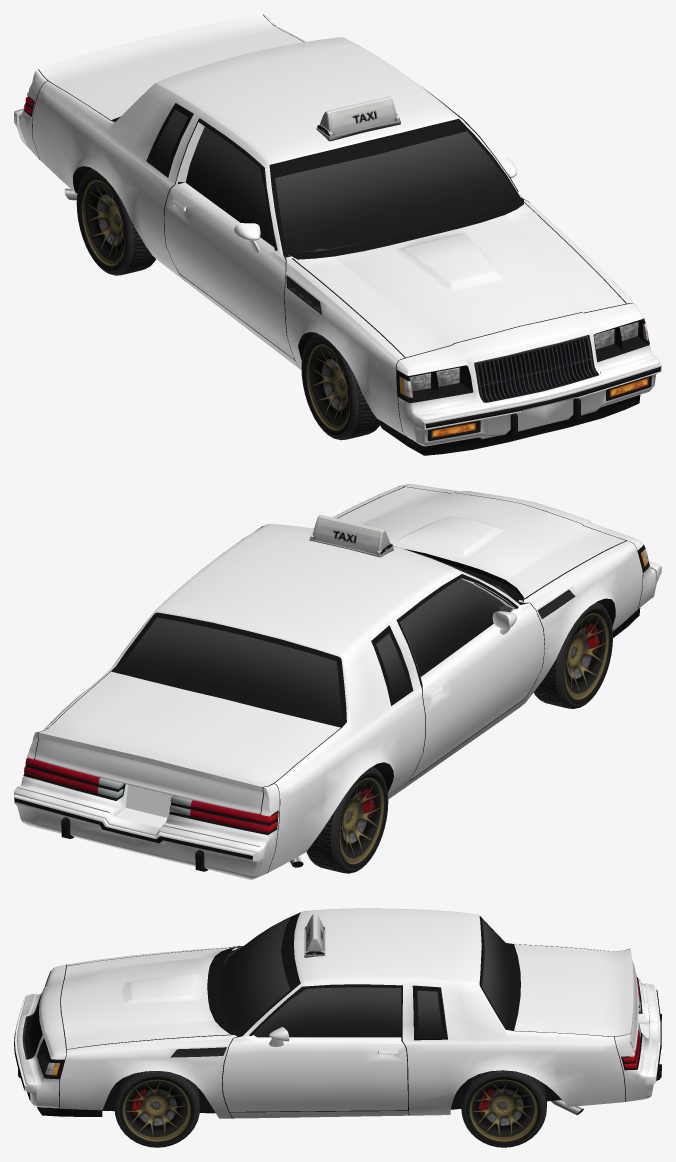
File: Taxi_09.FBX
3 views of the same model, one above another, from view 1: azimuth 30°, elevation 25°; view 2: azimuth 150°, elevation 25°; view 3: azimuth 270°, elevation 25° (orthographic). The views are drawn at different scales.
Parts seen in each view (by area): view 1: body, Glass001, Object015, FL_Wheel_LOD036, FL_Wheel_LOD035, top light005; view 2: body, Object015, Glass001, FL_Wheel_LOD035, FL_Wheel_LOD036, top light005; view 3: body, Glass001, FL_Wheel_LOD037, FL_Wheel_LOD038, top light005.
Part boxes in pixels (x1,y1,x2,y2): body: (14,14,661,455); Glass001: (151,109,516,252); Object015: (164,118,295,360); FL_Wheel_LOD036: (301,333,379,440); FL_Wheel_LOD035: (76,168,155,275); top light005: (316,96,400,141); body: (14,484,661,879); Object015: (396,574,545,781); Glass001: (121,553,504,720); FL_Wheel_LOD035: (306,766,388,873); FL_Wheel_LOD036: (533,602,612,708); top light005: (309,515,393,557); body: (14,908,661,1118); Glass001: (219,918,511,1037); FL_Wheel_LOD037: (461,1070,546,1147); FL_Wheel_LOD038: (114,1071,200,1147); top light005: (304,914,325,957).
Bounding box in the file's own units: 75.92 × 59.43 × 200.
